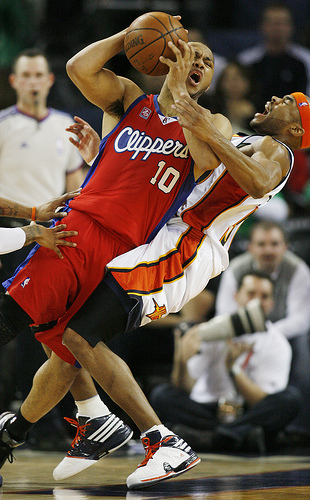basketball: (125, 12, 187, 78)
